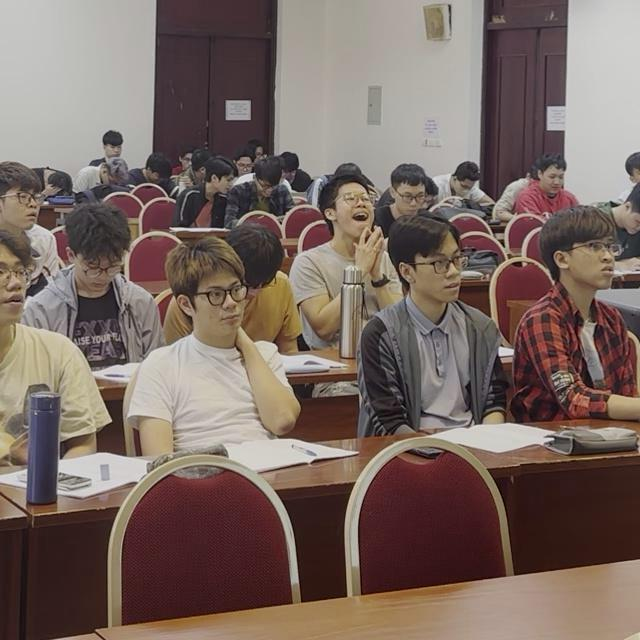Looking away: (81, 262, 117, 291), (401, 189, 423, 215), (546, 171, 563, 192), (456, 181, 472, 197), (238, 159, 252, 176), (218, 176, 230, 195), (258, 182, 271, 199)
Looking forward: (0, 254, 29, 320), (209, 281, 246, 331), (429, 253, 460, 299), (582, 242, 613, 285), (341, 191, 370, 232), (10, 190, 39, 228), (108, 144, 121, 158)
